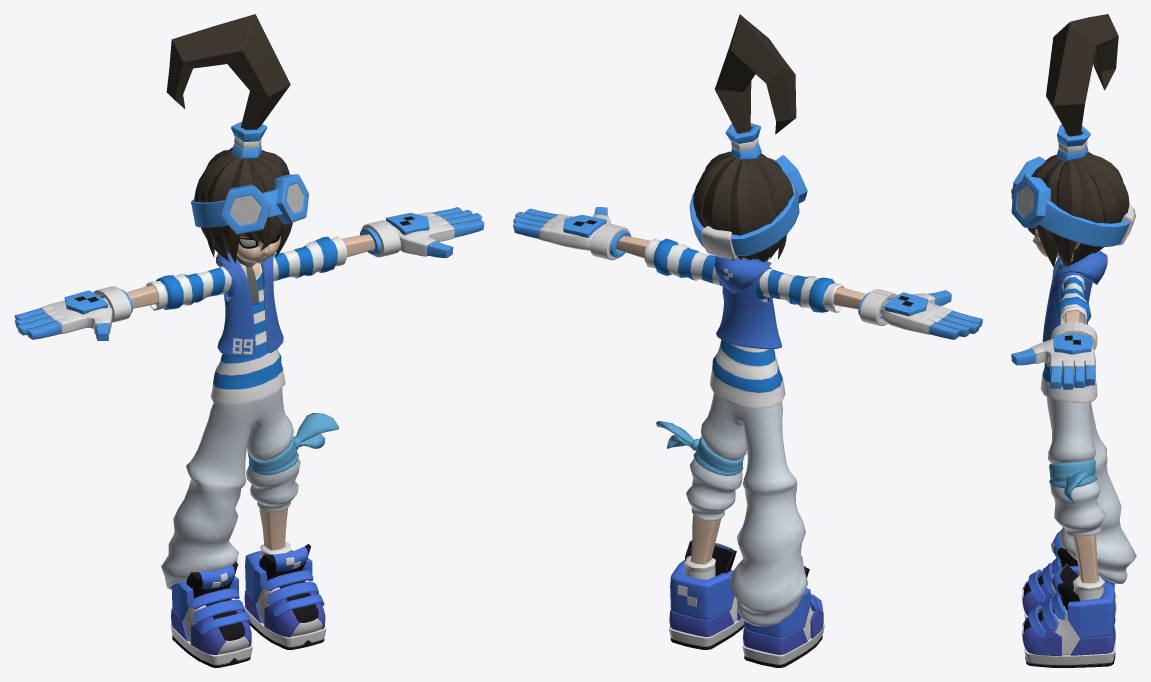
Rendered from driver.glb.
3 renders of one model, left to right at view 1: azimuth 30°, elevation 25°; view 2: azimuth 150°, elevation 25°; view 3: azimuth 270°, elevation 25°, orthographic.
Visible parts, largest first — view 1: AiMi_Colth16_mo, AiMi_Hair01_mo, AiMi_Colth17_mo, AiMi_Colth10_mo, AiMi_Colth09_mo, AiMi_Colth11_mo, AiMi_Colth12_mo, AiMi_Colth01_mo, AiMi_Colth06_mo, AiMi_Colth08_mo, AiMi_Colth07_mo, AiMi_Body04_mo (+1 smaller); view 2: AiMi_Colth16_mo, AiMi_Hair01_mo, AiMi_Colth17_mo, AiMi_Colth10_mo, AiMi_Colth01_mo, AiMi_Colth12_mo, AiMi_Colth09_mo, AiMi_Colth11_mo, AiMi_Colth06_mo, AiMi_Colth08_mo, AiMi_Body04_mo, AiMi_Colth07_mo (+1 smaller); view 3: AiMi_Hair01_mo, AiMi_Colth16_mo, AiMi_Colth10_mo, AiMi_Colth06_mo, AiMi_Colth11_mo, AiMi_Colth17_mo, AiMi_Colth01_mo, AiMi_Colth09_mo, AiMi_Colth08_mo, AiMi_Body04_mo, AiMi_Colth07_mo, AiMi_Colth05_mo (+2 smaller).
Boxes of the visible parts, box(x1,y1,x2,y2) form: AiMi_Colth16_mo: box(161, 388, 300, 589); AiMi_Hair01_mo: box(166, 14, 292, 263); AiMi_Colth17_mo: box(146, 236, 346, 406); AiMi_Colth10_mo: box(244, 542, 326, 649); AiMi_Colth09_mo: box(170, 561, 252, 667); AiMi_Colth11_mo: box(359, 207, 484, 258); AiMi_Colth12_mo: box(14, 286, 132, 340); AiMi_Colth01_mo: box(216, 252, 283, 357); AiMi_Colth06_mo: box(191, 174, 308, 234); AiMi_Colth08_mo: box(247, 413, 339, 475); AiMi_Colth07_mo: box(231, 122, 267, 159); AiMi_Body04_mo: box(259, 508, 287, 550); AiMi_Colth16_mo: box(686, 393, 808, 626); AiMi_Hair01_mo: box(693, 14, 796, 261); AiMi_Colth17_mo: box(644, 238, 844, 409); AiMi_Colth10_mo: box(669, 540, 744, 649); AiMi_Colth01_mo: box(714, 256, 781, 349); AiMi_Colth12_mo: box(858, 289, 982, 339); AiMi_Colth09_mo: box(742, 566, 824, 667); AiMi_Colth11_mo: box(513, 207, 631, 260); AiMi_Colth06_mo: box(689, 151, 807, 255); AiMi_Colth08_mo: box(656, 421, 744, 475); AiMi_Body04_mo: box(690, 515, 720, 564); AiMi_Colth07_mo: box(725, 123, 761, 160); AiMi_Hair01_mo: box(1027, 14, 1129, 267); AiMi_Colth16_mo: box(1046, 396, 1136, 583); AiMi_Colth10_mo: box(1022, 563, 1116, 667); AiMi_Colth06_mo: box(1011, 156, 1129, 247); AiMi_Colth11_mo: box(1011, 322, 1097, 389); AiMi_Colth17_mo: box(1040, 262, 1097, 403); AiMi_Colth01_mo: box(1042, 250, 1107, 341); AiMi_Colth09_mo: box(1022, 530, 1115, 623); AiMi_Colth08_mo: box(1049, 459, 1096, 503); AiMi_Body04_mo: box(1072, 534, 1098, 583); AiMi_Colth07_mo: box(1056, 124, 1090, 161); AiMi_Colth05_mo: box(1118, 205, 1135, 245).
Bounding box in the file's own units: 1.41 × 1.83 × 0.3344.
13 materials, 7 textured.
